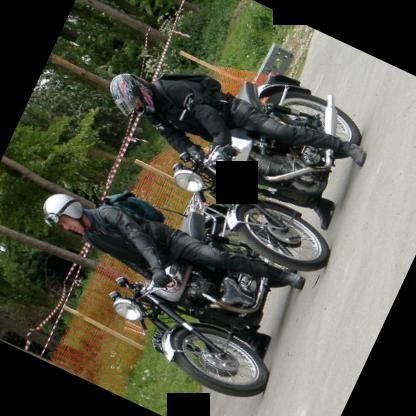backpack: (153, 71, 224, 125), (99, 191, 165, 225)
